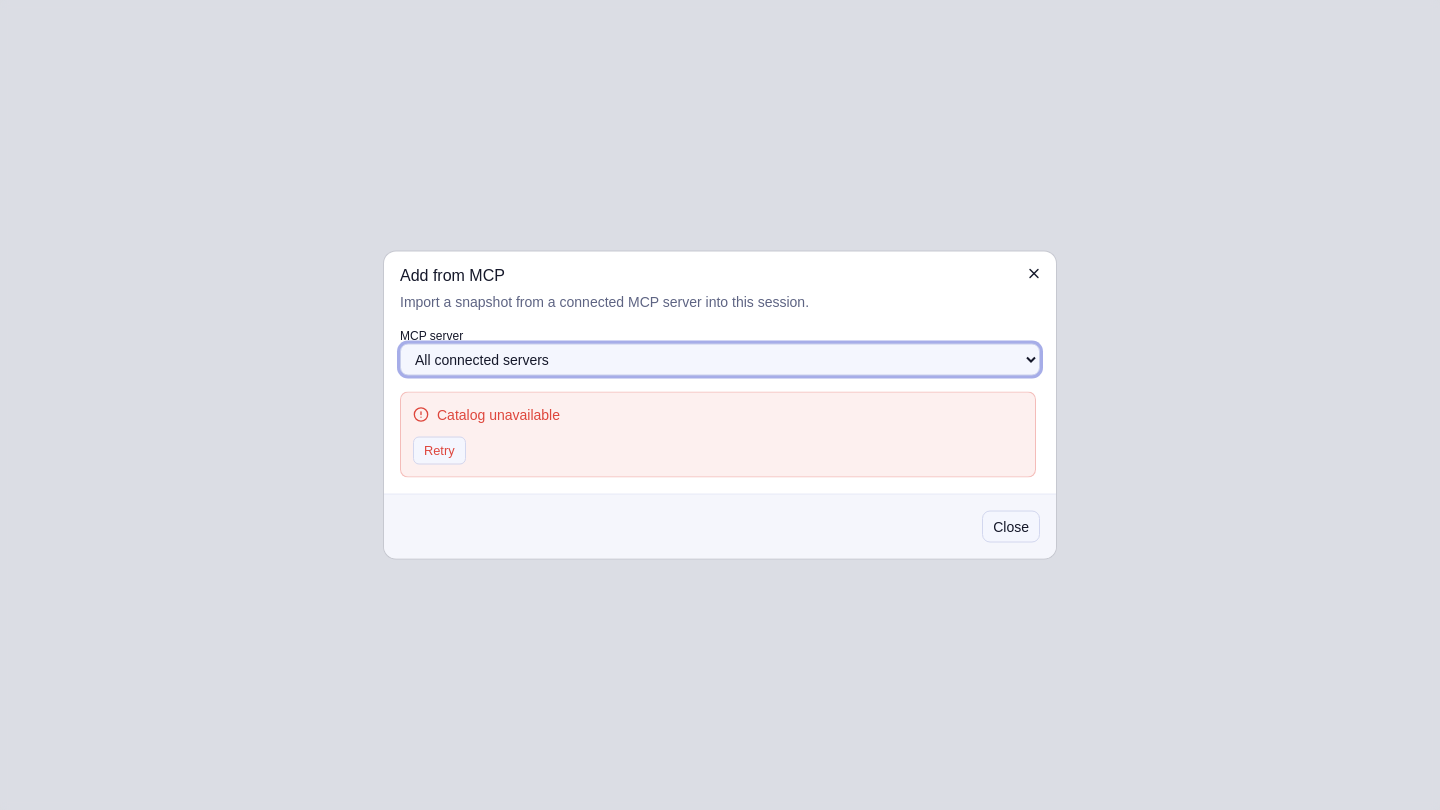
it: shows loading failures, retries, and reports an empty catalog
Expected: the message shows "Catalog unavailable", [437,406,560,422]
Step 1. Click the button "Retry" → (439, 450), box [413,436,466,464]
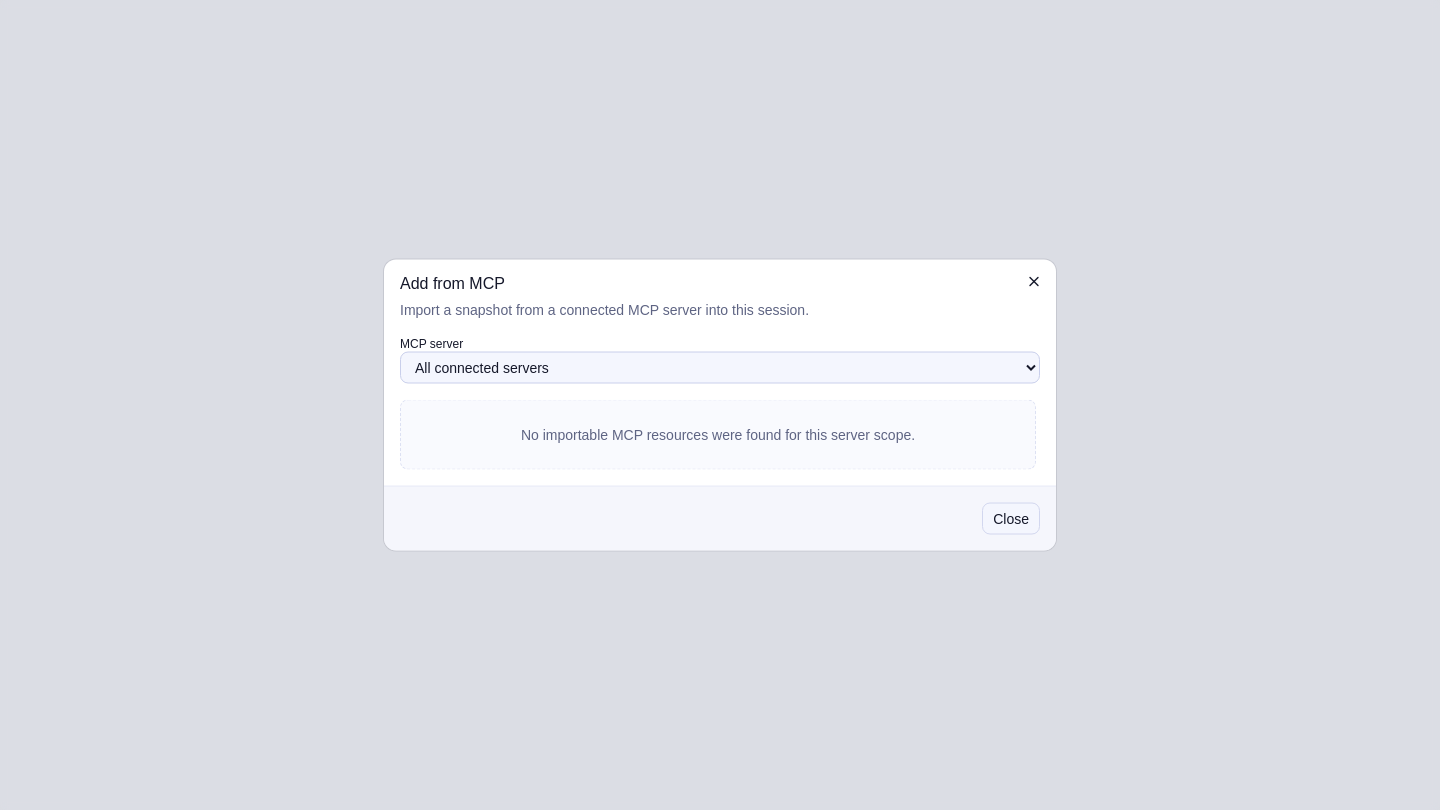
Expected: the text "No importable MCP resources" is shown, [521,426,915,442]
